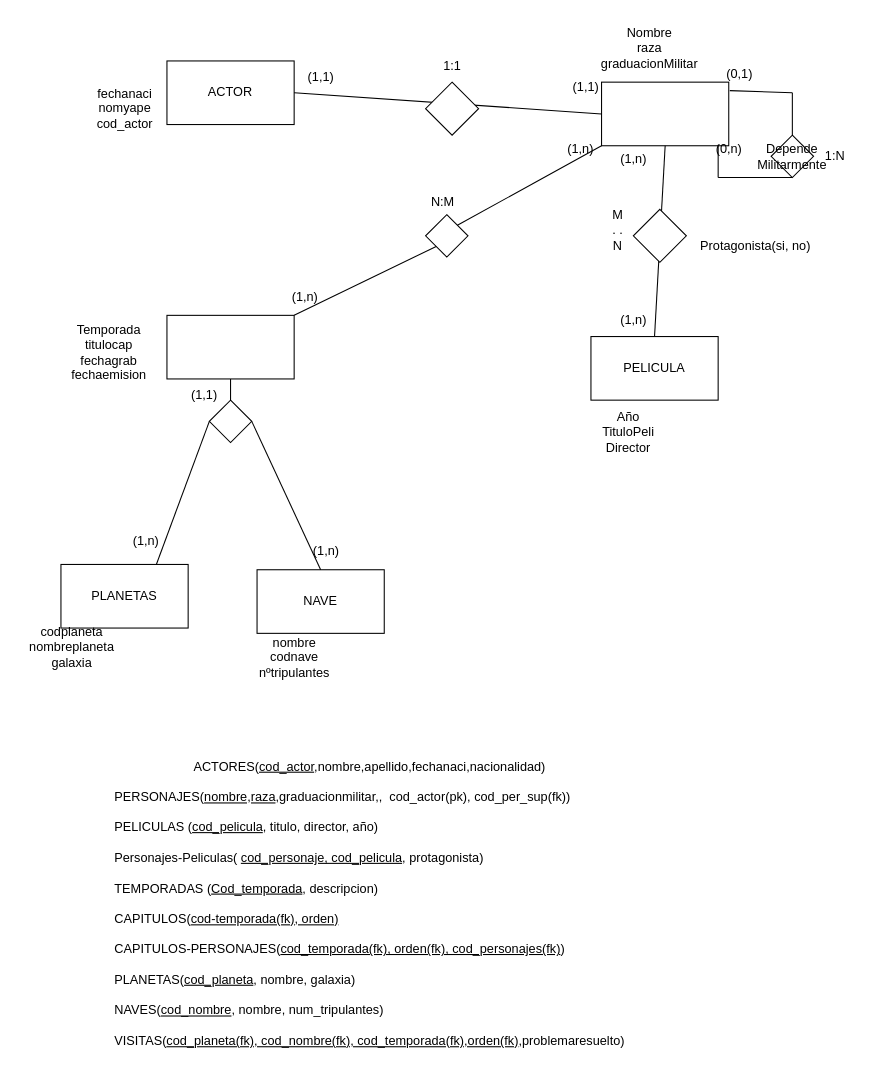
The diagram is 873 pixels wide and 1075 high, and some of its shapes have lost their labels. The shapes that lost their labels are listed below. From the top down, each one's centre as x and y in pixels, then its label:
the point at 664,113: PERSONAJE
the point at 230,346: CAPITULO
